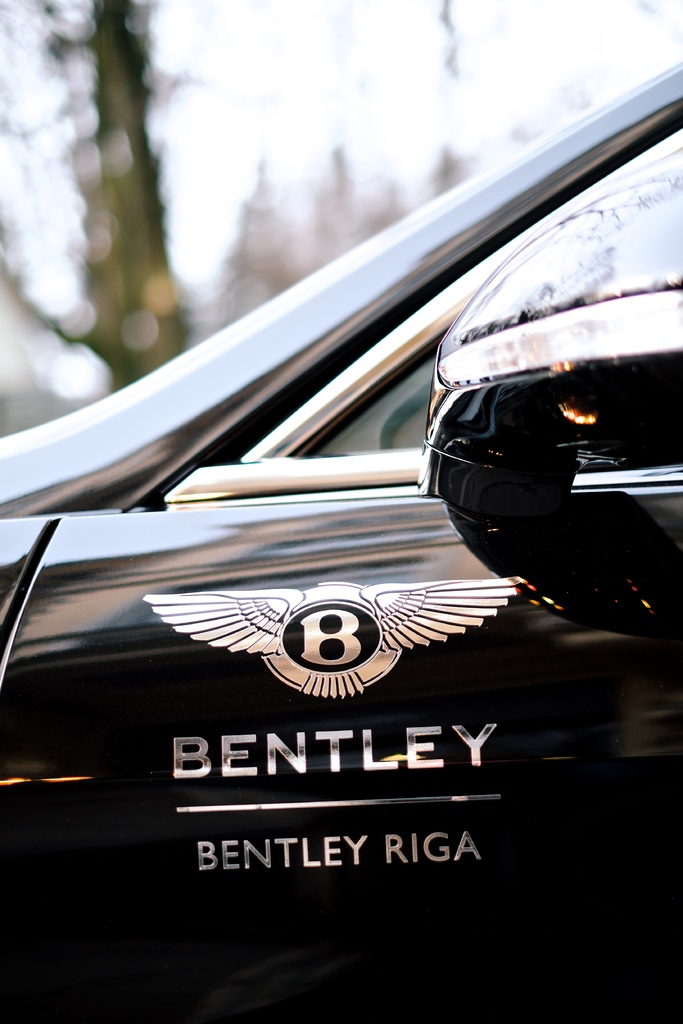Car: (0, 50, 682, 1023)
